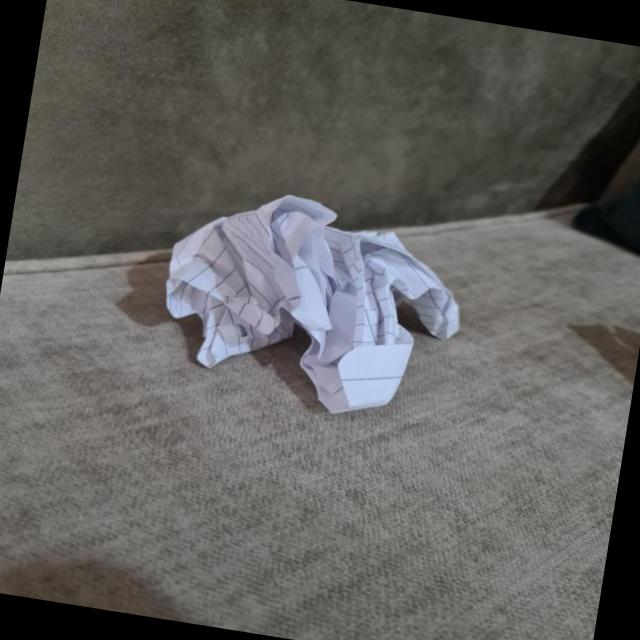cardboard paper: (0, 207, 640, 640), (165, 194, 458, 411)
